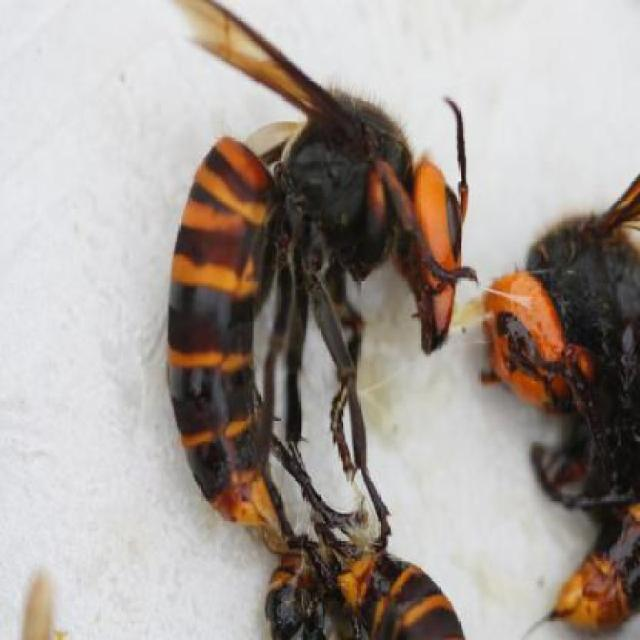Wasp: (142, 0, 480, 551)
